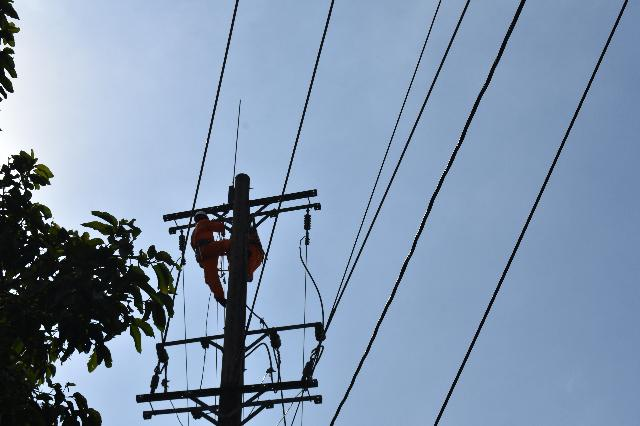harness: (188, 238, 221, 254), (240, 240, 269, 250)
helmet: (191, 209, 213, 223)
shoes: (213, 292, 230, 309), (244, 271, 256, 285)
